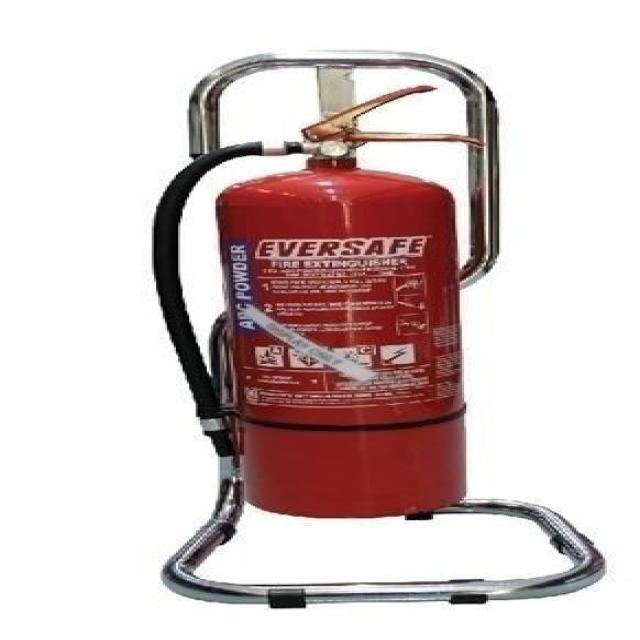fire_extinguisher: (141, 80, 488, 521)
